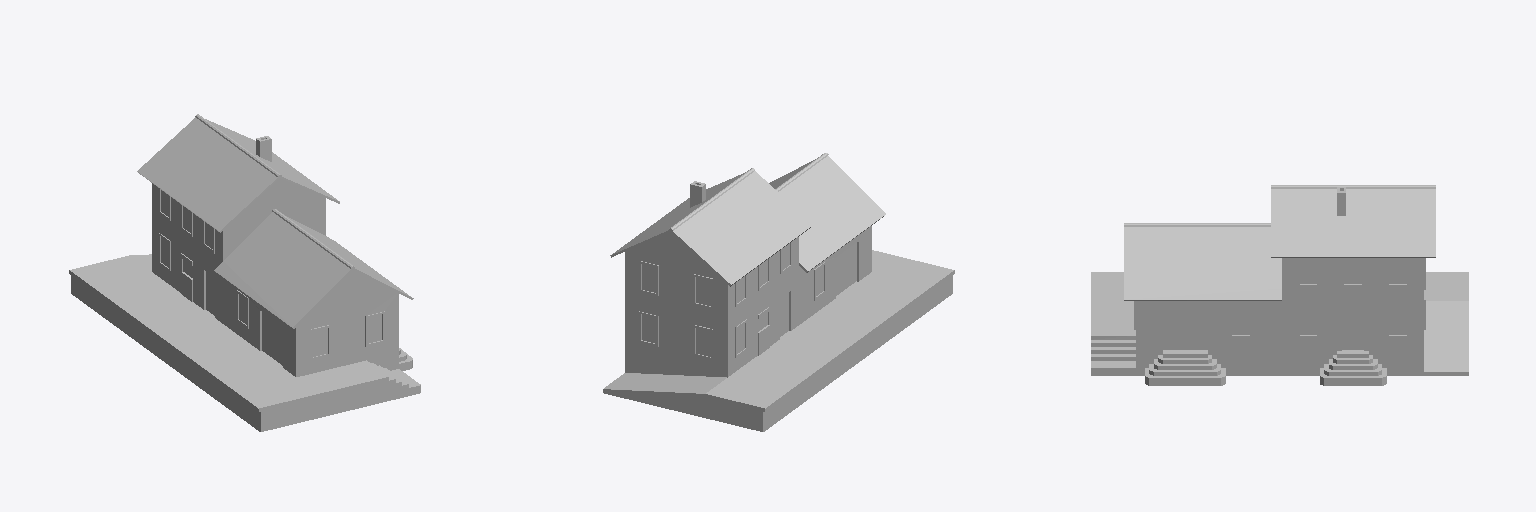
The model's file is longHouse.obj.
The picture shows the model from 3 angles: view 1: azimuth 30°, elevation 25°; view 2: azimuth 150°, elevation 25°; view 3: azimuth 270°, elevation 25°; orthographic projection.
Parts seen in each view (by area): view 1: the_longhouse; view 2: the_longhouse; view 3: the_longhouse.
Boxes of the visible parts, x1,y1,x2,y2 form: the_longhouse: [69, 114, 420, 431]; the_longhouse: [603, 153, 954, 431]; the_longhouse: [1091, 185, 1468, 385].
Size of the model in its own units: 29.41 by 26.02 by 52.37.